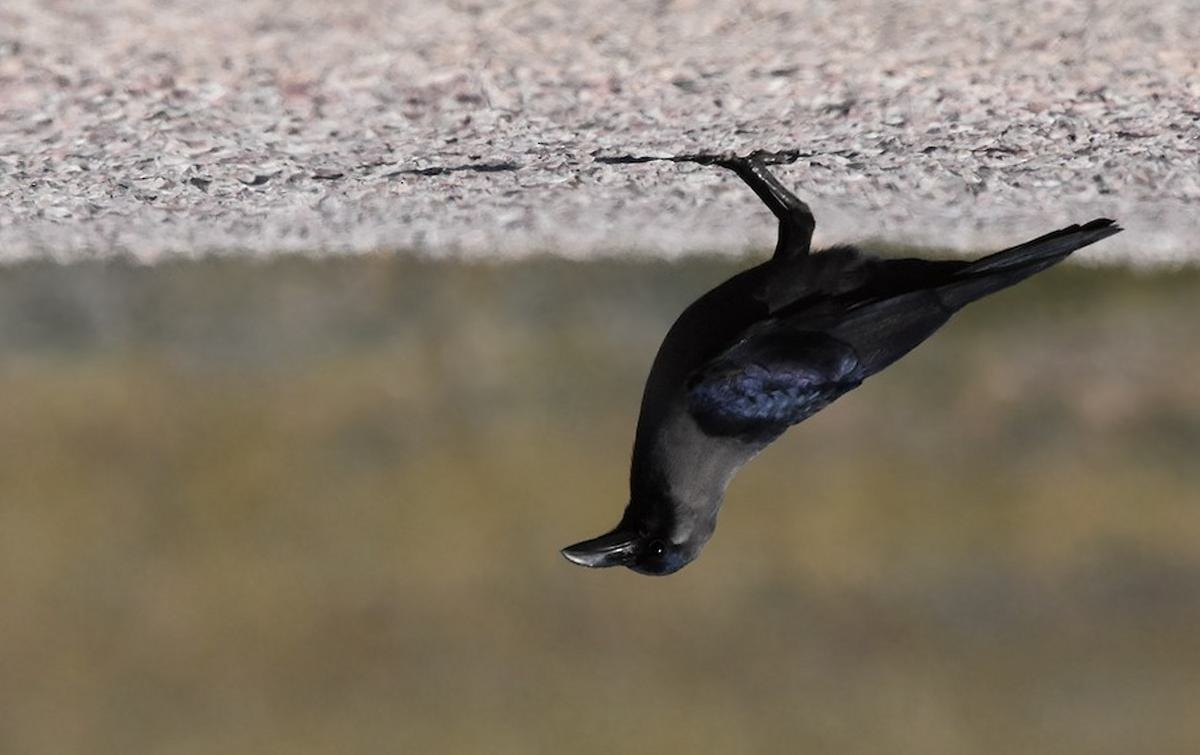crow: (555, 148, 1118, 583)
